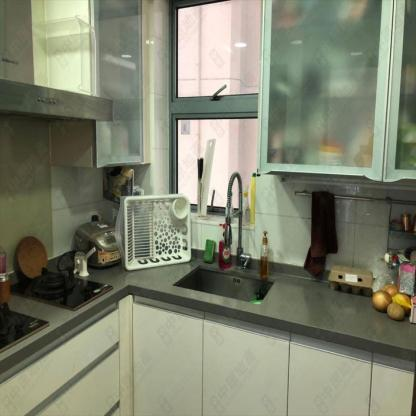Cupboard: (0, 295, 415, 415), (256, 0, 416, 183)
Exhaust Hood: (0, 9, 111, 122)
Faucet: (226, 168, 247, 267)
Sink: (170, 265, 276, 306)
Stove: (12, 269, 112, 312), (2, 303, 52, 350)
